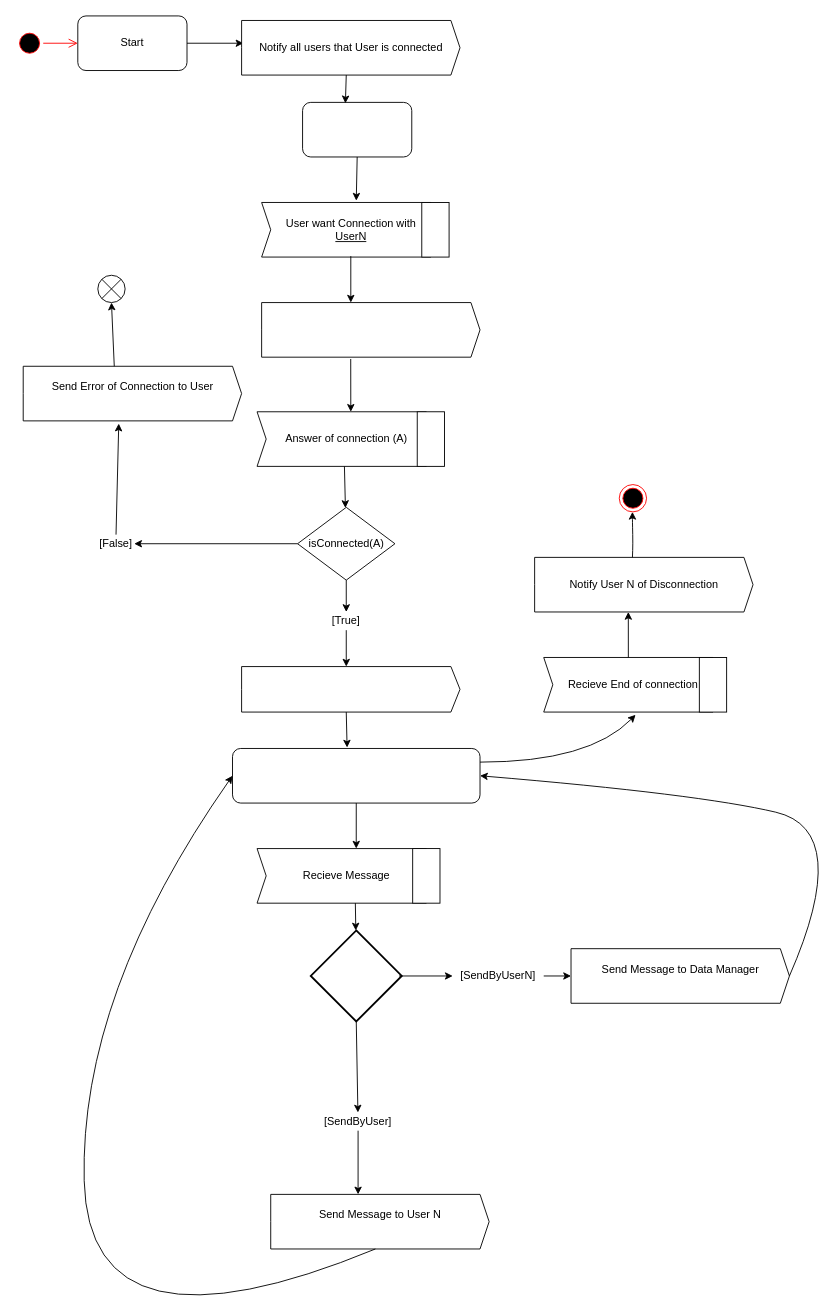
The diagram is 834 pixels wide and 1311 high, and some of its shapes have lost their labels. Each missing label, with the centre of its shape:
"Message" goes at point 355,975.
"Send Connected To User" goes at point 350,689.
"Send Connection Request To User N with Boradcast" goes at point 370,329.
"Wait for connection" goes at point 357,129.
"Waiting for Notify" goes at point 356,775.
